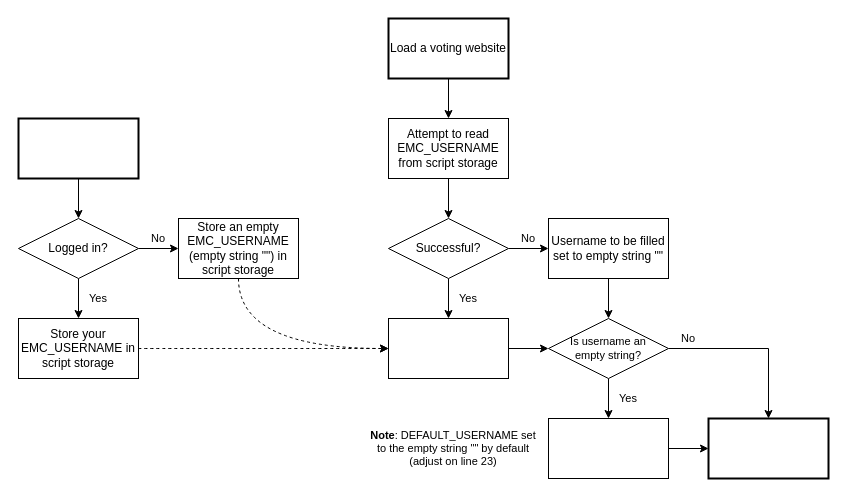
Some shapes in this 846 by 496 pixel diagram are drawn without their labels. The centre of each missing label's shape, as x and y in pixels:
"Fill in the username" goes at (768,448).
"Load EMC voting page (emc.gs/vote)" goes at (78,148).
"Username to be filled set to DEFAULT_USERNAME" goes at (608,448).
"Username to be filled set to the value from script storage" goes at (448,348).
